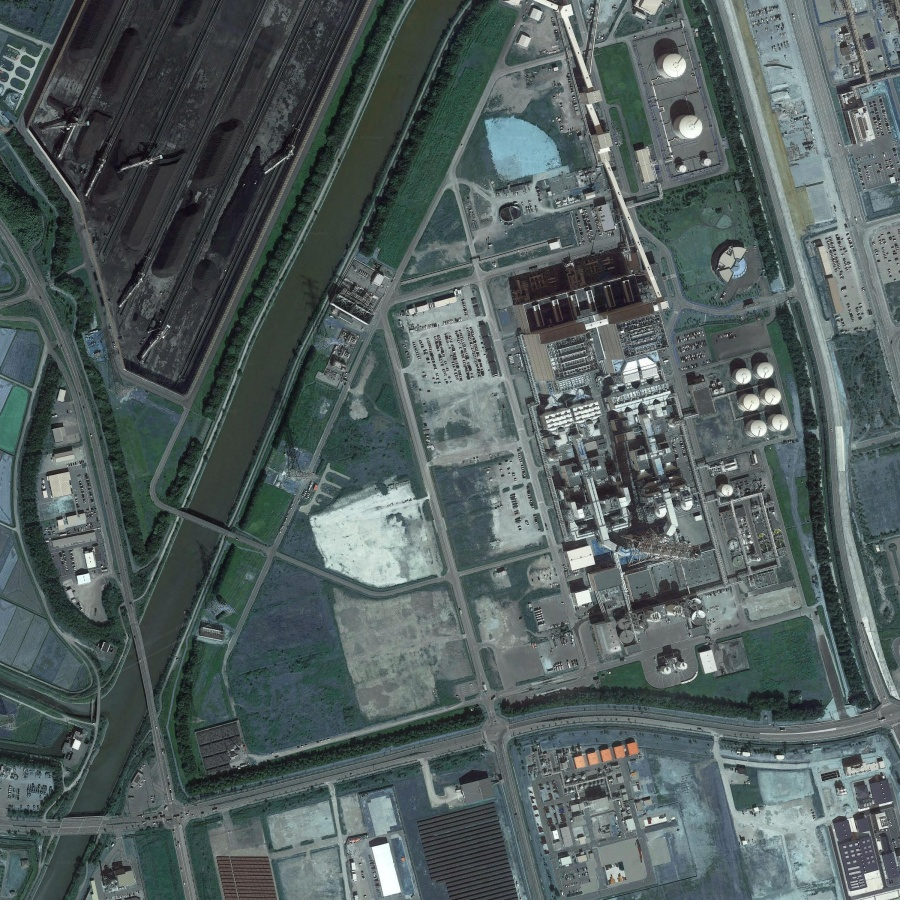PowerPlant: (520, 288, 800, 678)
